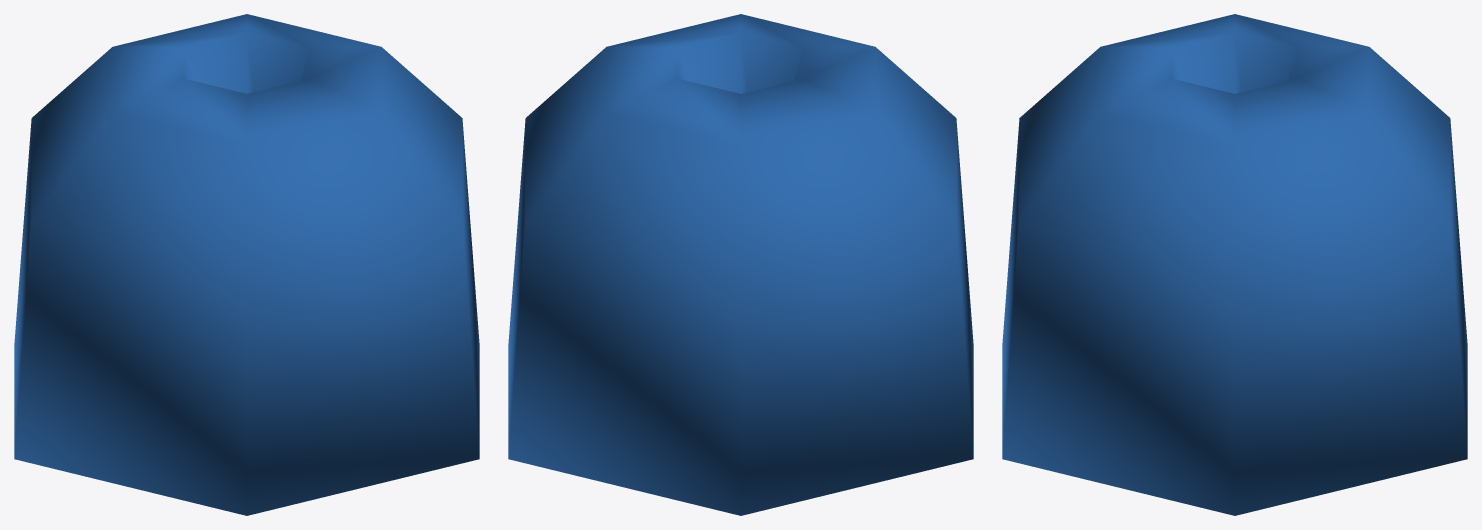
File: pengquan1.fbx
3 renders of one model, left to right at view 1: azimuth 30°, elevation 25°; view 2: azimuth 150°, elevation 25°; view 3: azimuth 270°, elevation 25°, orthographic.
Parts seen in each view (by area): view 1: pengquan1; view 2: pengquan1; view 3: pengquan1.
Part boxes in pixels (x1=…): pengquan1: x1=14, y1=14, x2=479, y2=515; pengquan1: x1=508, y1=14, x2=973, y2=515; pengquan1: x1=1002, y1=14, x2=1467, y2=515.
Bounding box in the file's own units: 305 × 212 × 264.
